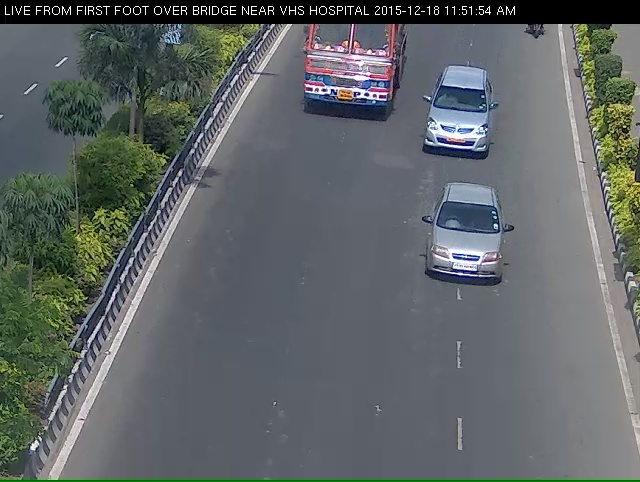Bus: (296, 21, 406, 130)
Car: (431, 198, 506, 309), (424, 77, 490, 167)
